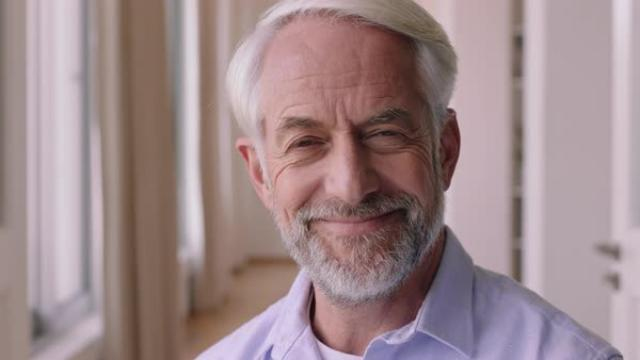crows_feet: (406, 128, 428, 162), (268, 147, 288, 175)
forehead: (332, 74, 374, 94), (274, 96, 306, 115)
frown_line: (328, 102, 352, 130)
